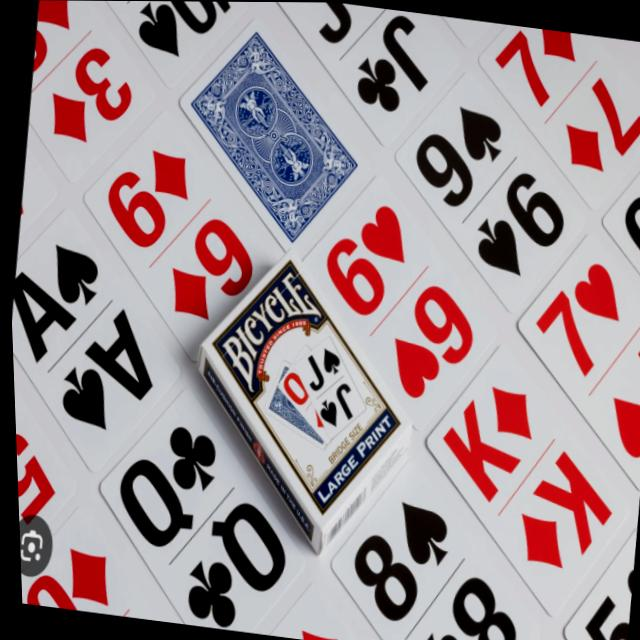Card-10: (17, 505, 139, 618), (107, 1, 249, 89)
Card-3: (26, 0, 154, 182)
Card-5: (11, 383, 71, 551), (563, 525, 633, 640)
Card-6: (300, 173, 494, 427), (83, 109, 279, 357), (599, 167, 640, 277)
Card-7: (514, 234, 640, 487), (478, 23, 640, 208)
Card-8: (326, 457, 532, 640)
Card-9: (393, 68, 582, 312)
Card-A: (9, 209, 176, 470)
Card-J: (281, 2, 459, 141), (291, 336, 362, 438)
Card-K: (422, 340, 625, 617)
Card-Q: (95, 386, 300, 631), (274, 344, 327, 443)
